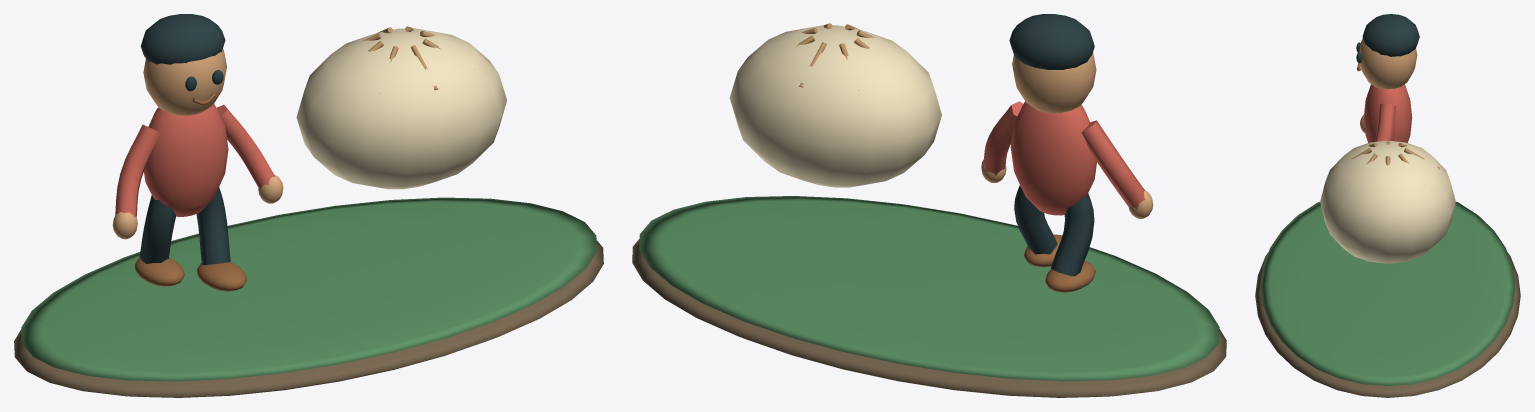
Rendered from child-bun.glb.
3 renders of one model, left to right at view 1: azimuth 30°, elevation 25°; view 2: azimuth 150°, elevation 25°; view 3: azimuth 270°, elevation 25°, orthographic. The views are drawn at different scales.
Visible parts, largest first — view 1: child-bun_surface_01, child-bun_surface_02, child-bun_surface_00, child-bun_surface_07, child-bun_surface_05, child-bun_surface_04, child-bun_surface_06, child-bun_surface_03; view 2: child-bun_surface_01, child-bun_surface_02, child-bun_surface_00, child-bun_surface_07, child-bun_surface_05, child-bun_surface_04, child-bun_surface_06, child-bun_surface_03; view 3: child-bun_surface_01, child-bun_surface_02, child-bun_surface_00, child-bun_surface_07, child-bun_surface_05, child-bun_surface_04, child-bun_surface_03.
Boxes of the visible parts, left/top/right/bottom form: child-bun_surface_01: left=21, top=197, right=596, bottom=381; child-bun_surface_02: left=296, top=28, right=506, bottom=189; child-bun_surface_00: left=14, top=240, right=603, bottom=397; child-bun_surface_07: left=115, top=104, right=274, bottom=217; child-bun_surface_05: left=139, top=14, right=230, bottom=264; child-bun_surface_04: left=112, top=49, right=283, bottom=239; child-bun_surface_06: left=134, top=93, right=246, bottom=291; child-bun_surface_03: left=362, top=26, right=474, bottom=93; child-bun_surface_01: left=639, top=196, right=1219, bottom=381; child-bun_surface_02: left=729, top=25, right=941, bottom=187; child-bun_surface_00: left=632, top=239, right=1226, bottom=397; child-bun_surface_07: left=983, top=101, right=1145, bottom=215; child-bun_surface_05: left=1009, top=14, right=1094, bottom=276; child-bun_surface_04: left=981, top=52, right=1153, bottom=218; child-bun_surface_06: left=1024, top=234, right=1095, bottom=292; child-bun_surface_03: left=762, top=23, right=875, bottom=90; child-bun_surface_01: left=1260, top=201, right=1515, bottom=385; child-bun_surface_02: left=1320, top=140, right=1455, bottom=263; child-bun_surface_00: left=1255, top=252, right=1520, bottom=397; child-bun_surface_07: left=1363, top=84, right=1412, bottom=142; child-bun_surface_05: left=1356, top=14, right=1419, bottom=63; child-bun_surface_04: left=1359, top=38, right=1417, bottom=132; child-bun_surface_03: left=1336, top=140, right=1439, bottom=185.
Size of the model in its own units: 4.56 by 2.54 by 2.5.
